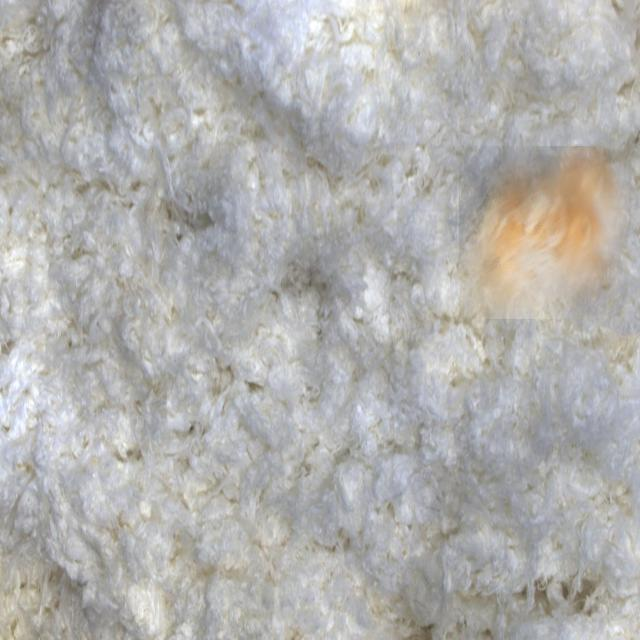dust: (459, 146, 628, 319)
